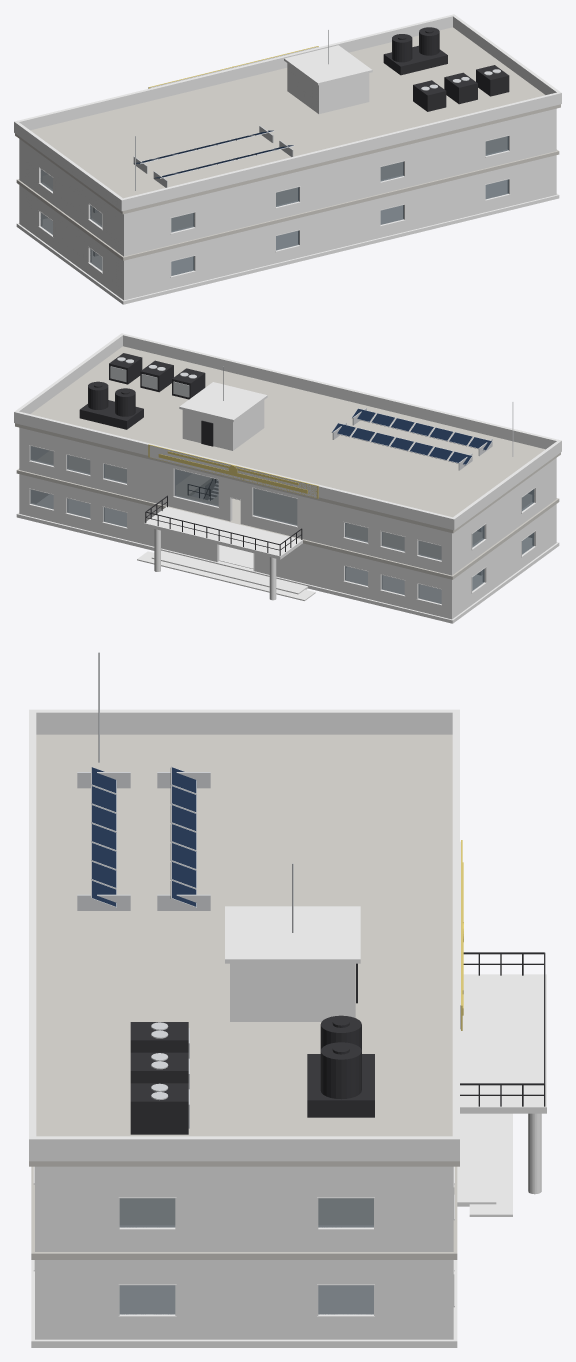
Rendered from campus_architecture.glb.
3 renders of one model, top to bottom at view 1: azimuth 30°, elevation 25°; view 2: azimuth 150°, elevation 25°; view 3: azimuth 270°, elevation 25°, orthographic. The views are drawn at different scales.
Parts seen in each view (by area): view 1: Roof_Main, Wall_1_Back, Wall_G_Back, Parapet_Back, Parapet_Front, Wall_1_Left, Wall_G_Left, Bld_Plinth, Slab_Floor_1_West, Roof_Penthouse, Roof_Penthouse_Slab, Parapet_Left (+9 smaller); view 2: Roof_Main, Wall_1_Front, Wall_G_Front, Parapet_Back, Slab_Floor_1_West, Parapet_Front, Wall_1_Left, Wall_G_Left, Canopy_Roof, Bld_Floor_G, Bld_Plinth, Roof_Penthouse (+18 smaller); view 3: Roof_Main, Wall_1_Right, Wall_G_Right, Canopy_Roof, Parapet_Right, Parapet_Left, Roof_Penthouse_Slab, Roof_Penthouse, Slab_Floor_1_East, Bld_Plinth, Parapet_Front, Parapet_Back (+15 smaller).
Boxes of the visible parts, x1,y1,x2,y2 form: Roof_Main: (15,27,560,214); Wall_1_Back: (122,108,556,256); Wall_G_Back: (122,155,556,300); Parapet_Back: (120,92,561,211); Parapet_Front: (14,14,455,132); Wall_1_Left: (21,140,121,254); Wall_G_Left: (21,186,121,298); Bld_Plinth: (16,193,559,304); Slab_Floor_1_West: (16,175,381,260); Roof_Penthouse: (287,63,369,113); Roof_Penthouse_Slab: (284,45,372,85); Parapet_Left: (14,121,123,209); Roof_Main: (15,346,560,533); Wall_1_Front: (19,427,453,575); Wall_G_Front: (19,474,453,619); Parapet_Back: (120,333,561,451); Slab_Floor_1_West: (194,489,559,579); Parapet_Front: (14,411,455,530); Wall_1_Left: (454,459,554,573); Wall_G_Left: (454,505,554,617); Canopy_Roof: (144,507,302,559); Bld_Floor_G: (37,494,531,602); Bld_Plinth: (16,512,559,623); Roof_Penthouse: (182,400,264,450); Roof_Main: (29,734,459,1166); Wall_1_Right: (42,1166,446,1251); Wall_G_Right: (42,1260,446,1339); Canopy_Roof: (460,974,546,1113); Parapet_Right: (31,1136,457,1161); Parapet_Left: (31,709,457,734); Roof_Penthouse_Slab: (225,906,360,963); Roof_Penthouse: (230,963,355,1021); Slab_Floor_1_East: (31,1166,457,1259); Bld_Plinth: (31,1260,457,1347); Parapet_Front: (452,709,459,1161); Parapet_Back: (29,709,36,1161).
Size of the model in its own units: 42 by 14.7 by 21.4.
